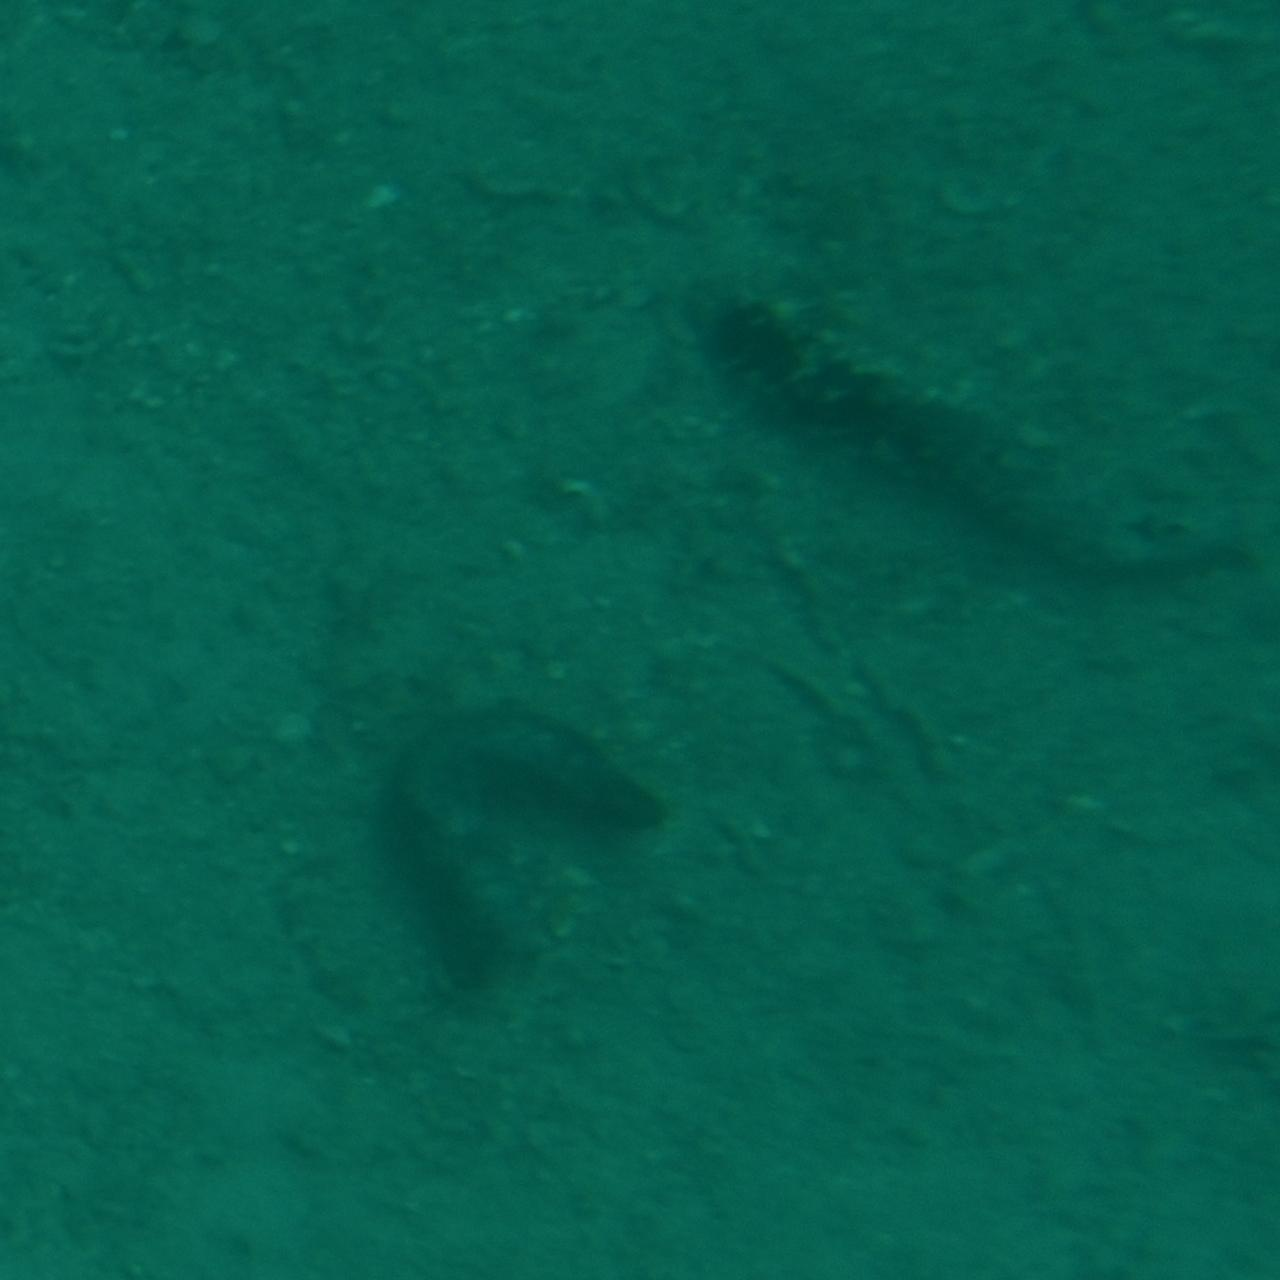Holothuria tubulosa: (680, 246, 1247, 601), (382, 703, 674, 1011)
